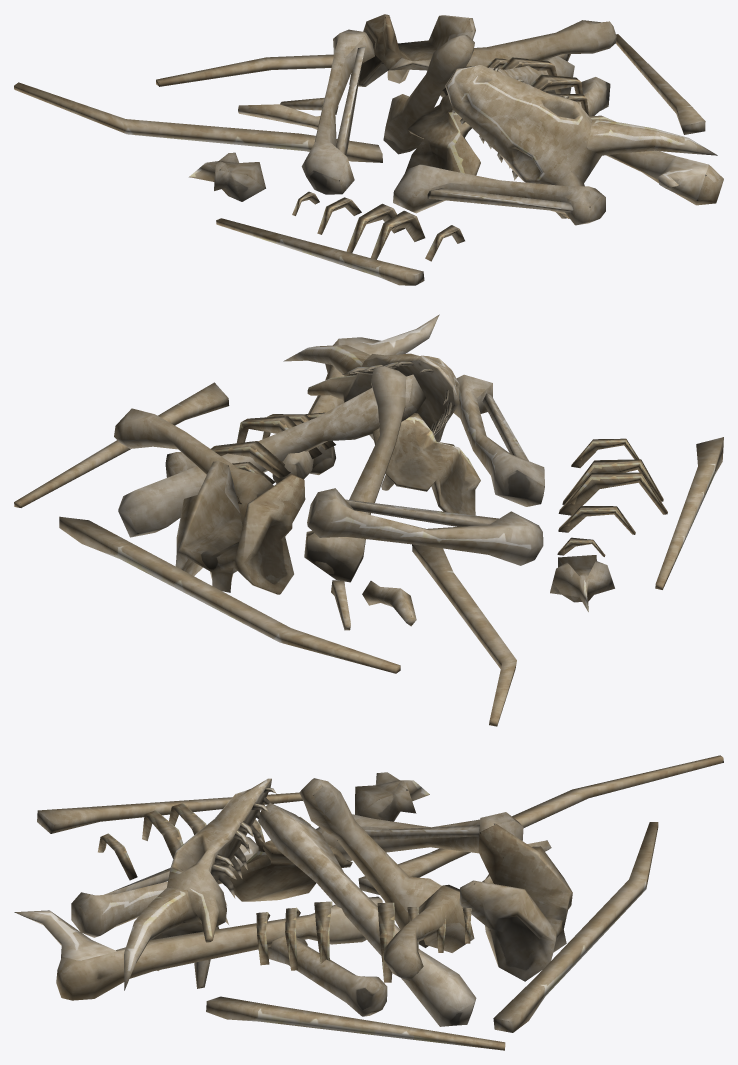
The model's file is Toon_Skeleton_05.fbx.
3 views of the same model, one above another, from view 1: azimuth 30°, elevation 25°; view 2: azimuth 150°, elevation 25°; view 3: azimuth 270°, elevation 25° (orthographic). The views are drawn at different scales.
Parts seen in each view (by area): view 1: Toon_Skeleton_05; view 2: Toon_Skeleton_05; view 3: Toon_Skeleton_05.
Boxes of the visible parts, x1=… form: Toon_Skeleton_05: x1=14, y1=14, x2=723, y2=285; Toon_Skeleton_05: x1=14, y1=314, x2=723, y2=726; Toon_Skeleton_05: x1=14, y1=755, x2=723, y2=1050.
Size of the model in its own units: 33.95 by 9.97 by 35.63.
